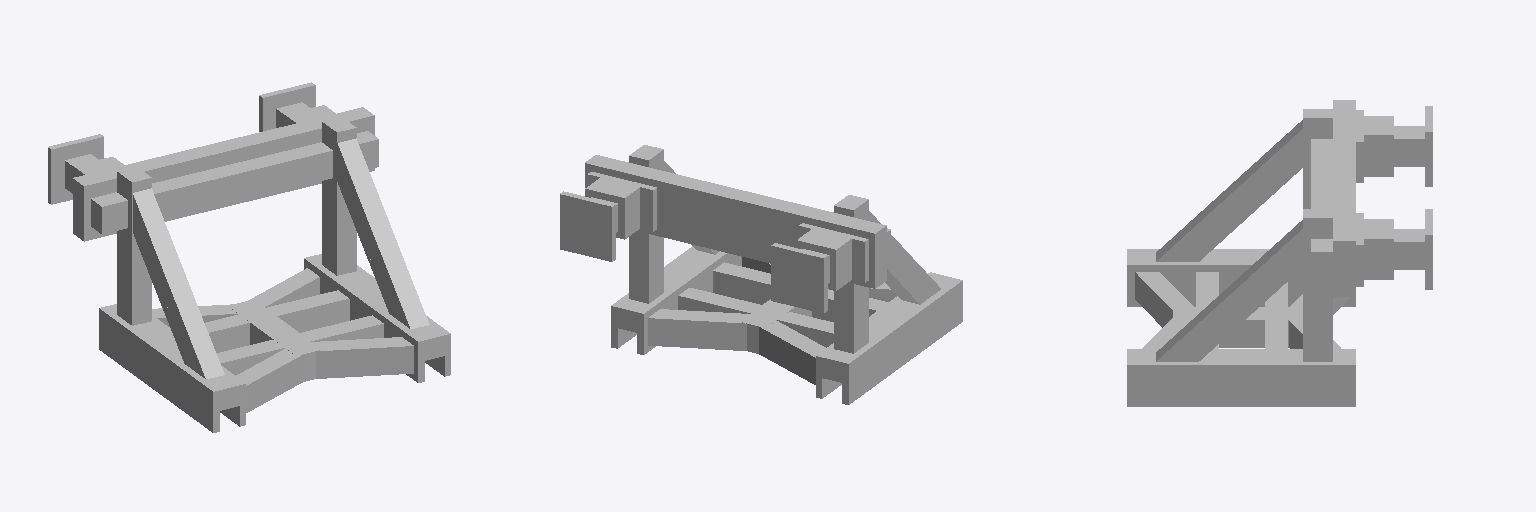
The model's file is buffer_stop.obj.
3 renders of one model, left to right at view 1: azimuth 30°, elevation 25°; view 2: azimuth 150°, elevation 25°; view 3: azimuth 270°, elevation 25°, orthographic.
Parts seen in each view (by area): view 1: cube.001, cube, cube.010, cube.003, cube.011, cube.013, cube.002, cube.034, cube.018, cube.019, cube.012, cube.004 (+20 smaller); view 2: cube.018, cube.013, cube.033, cube.021, cube.025, cube.019, cube.002, cube.010, cube.020, cube.031, cube.008, cube.030 (+14 smaller); view 3: cube.005, cube.002, cube.003, cube.011, cube.006, cube.004, cube.012, cube.020, cube.037, cube.024, cube.028, cube.032 (+18 smaller).
Part boxes in pixels (x1,y1,x2,y2): cube.001: (91, 165, 240, 233); cube: (230, 131, 378, 200); cube.010: (117, 167, 151, 325); cube.003: (337, 138, 397, 260); cube.011: (133, 188, 192, 310); cube.013: (99, 306, 180, 404); cube.002: (322, 117, 356, 275); cube.034: (313, 337, 413, 378); cube.018: (165, 130, 281, 218); cube.019: (73, 156, 175, 241); cube.012: (164, 295, 224, 378); cube.004: (369, 245, 429, 328); cube.018: (677, 177, 792, 263); cube.013: (842, 306, 924, 404); cube.033: (648, 309, 748, 350); cube.021: (771, 243, 827, 313); cube.025: (560, 191, 615, 261); cube.019: (783, 203, 886, 288); cube.002: (629, 145, 663, 303); cube.010: (834, 195, 868, 353); cube.020: (585, 155, 687, 240); cube.031: (759, 321, 825, 384); cube.008: (637, 257, 719, 354); cube.030: (713, 262, 770, 304); cube.005: (1204, 362, 1355, 406); cube.002: (1303, 209, 1332, 361); cube.003: (1219, 220, 1302, 323); cube.011: (1219, 120, 1302, 223); cube.006: (1127, 362, 1203, 406); cube.004: (1156, 296, 1239, 361); cube.012: (1156, 196, 1239, 261); cube.020: (1333, 196, 1355, 296); cube.037: (1173, 307, 1302, 347); cube.024: (1364, 116, 1393, 176); cube.028: (1364, 219, 1393, 279); cube.032: (1135, 272, 1193, 327).
Bounding box in the file's own units: 2.75 × 1.67 × 2.5.